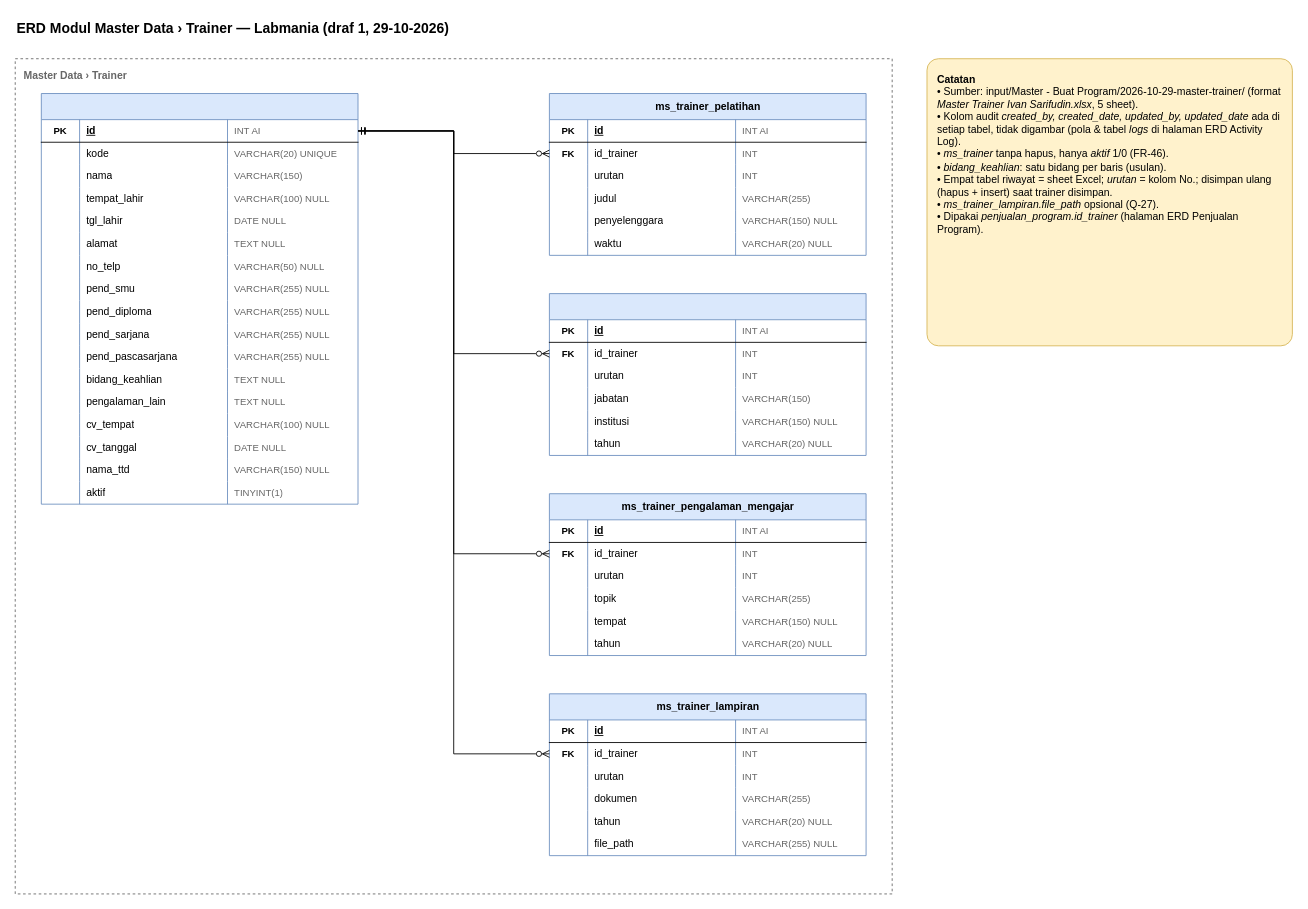
The diagram is 1308 pixels wide and 909 high, and some of its shapes have lost their labels. Each missing label, with the box of its shape:
ms_trainer: (40, 93, 358, 504)
ms_trainer_pengalaman_kerja: (549, 293, 866, 455)
